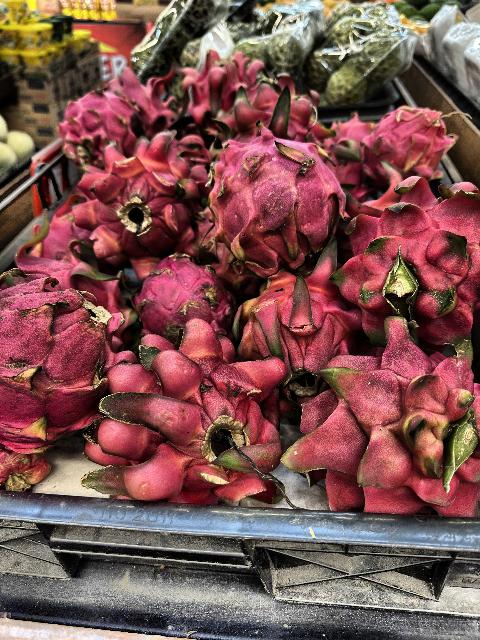buah-naga-matang: (100, 322, 298, 502), (306, 332, 480, 518), (332, 167, 480, 339), (203, 130, 356, 266), (0, 263, 110, 452), (231, 265, 365, 389), (59, 140, 196, 254), (134, 254, 238, 336), (359, 106, 457, 184), (216, 84, 333, 144), (58, 84, 138, 160), (182, 48, 262, 122), (109, 70, 181, 126)
